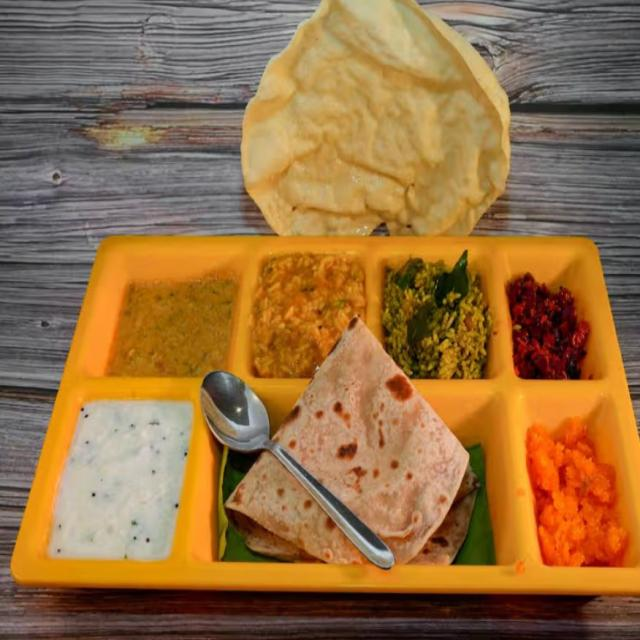CHAPATHI: (223, 316, 481, 568)
CURD RICE: (52, 407, 189, 558)
PAPADAM: (243, 9, 501, 235)
SWEET: (528, 416, 626, 565)
VEGGIES: (507, 275, 586, 377)
